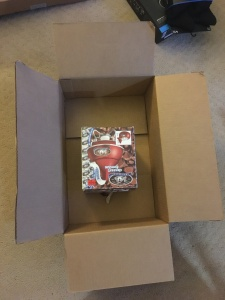innerbox: (59, 77, 169, 226)
outerbox: (16, 23, 224, 284)
product: (80, 127, 137, 191)
